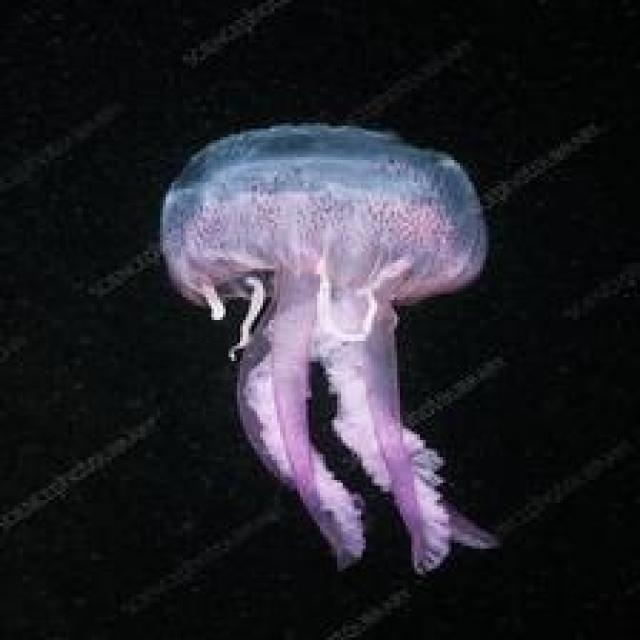Jellyfish: (154, 118, 503, 574)
